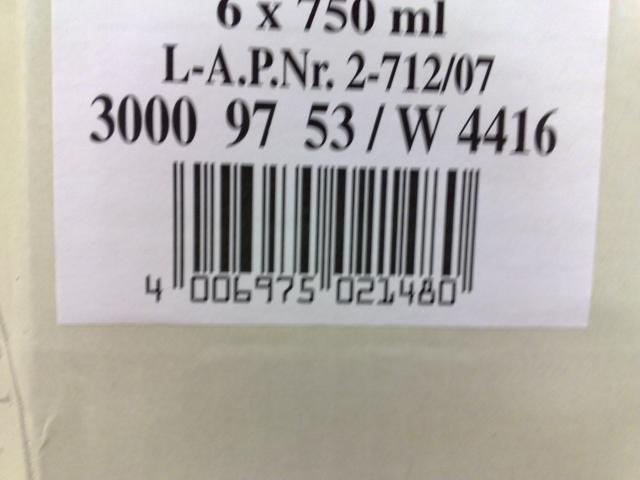Barcode: (135, 155, 496, 316)
